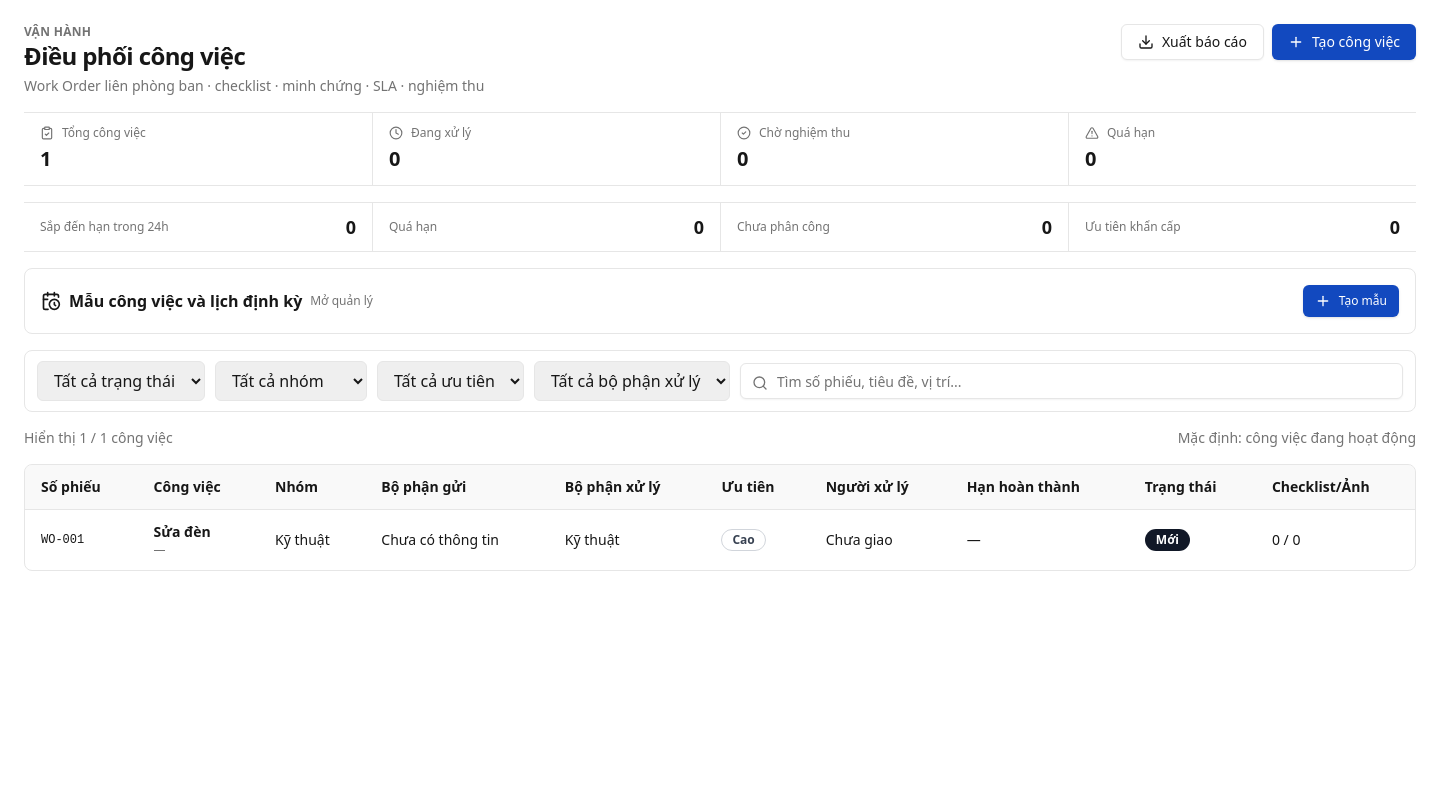
WorkOrdersPage departments and images › narrows the assignee list to the chosen department and clears a stale assignee
The image size is (1440, 810).
Expected: the text "WO-001" is shown, x1=25 y1=510 x2=138 y2=570
Click the button "Tạo công việc" at (1344, 42), box x1=1272 y1=24 x2=1416 y2=60
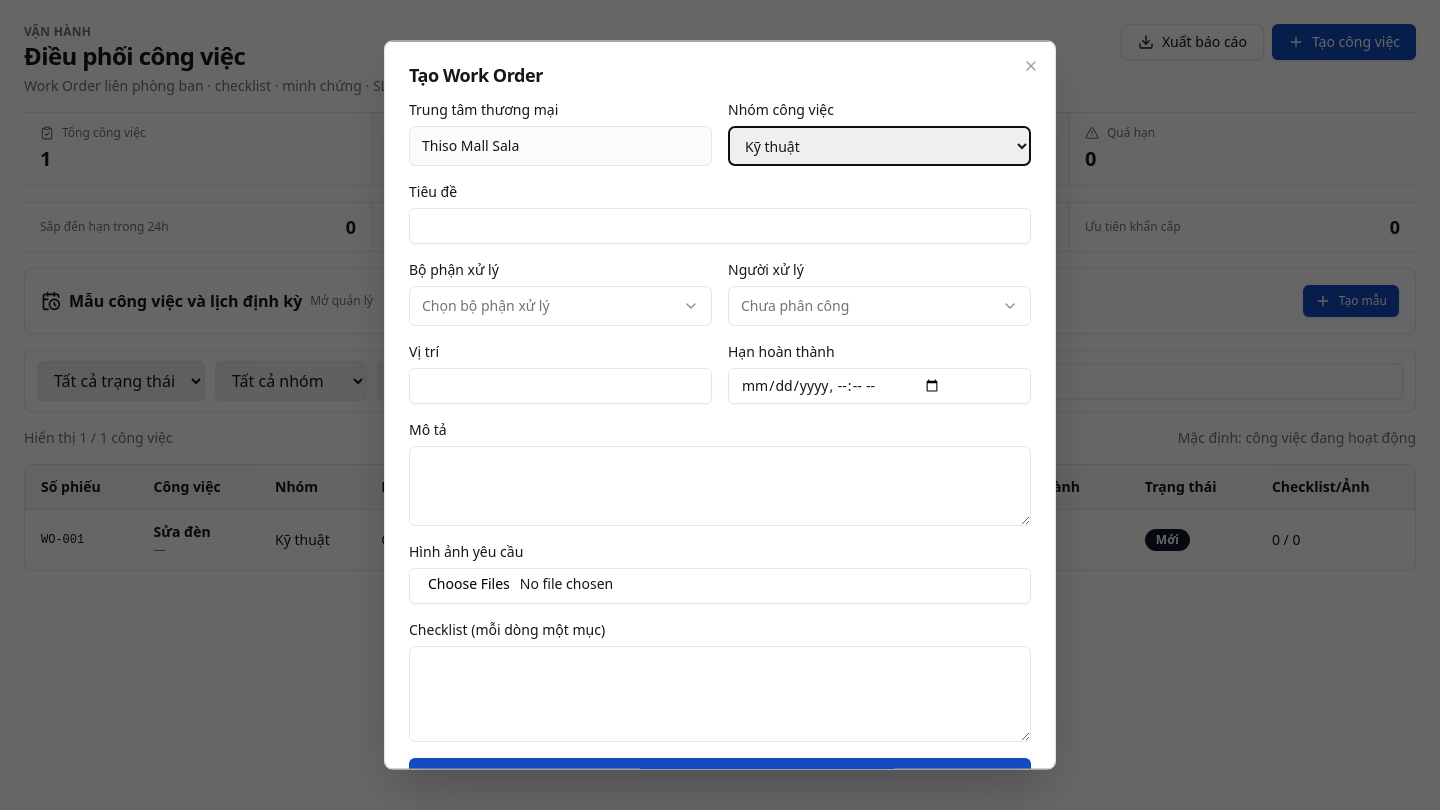
Click the button named "Người xử lý" at (795, 305), box x1=728 y1=286 x2=1031 y2=326
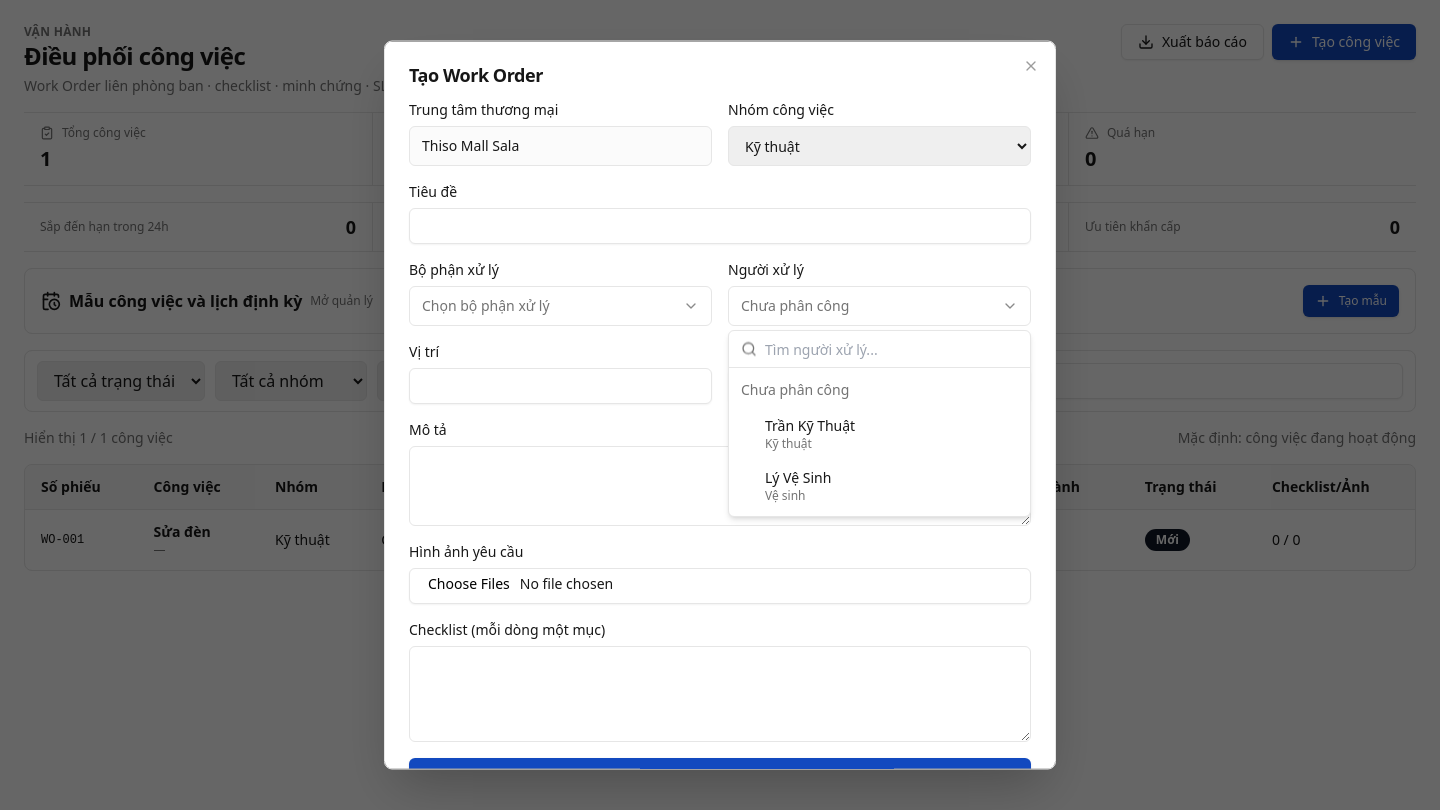
Click the option "Lý Vệ Sinh Vệ sinh" at (798, 477), box x1=729 y1=460 x2=1030 y2=512
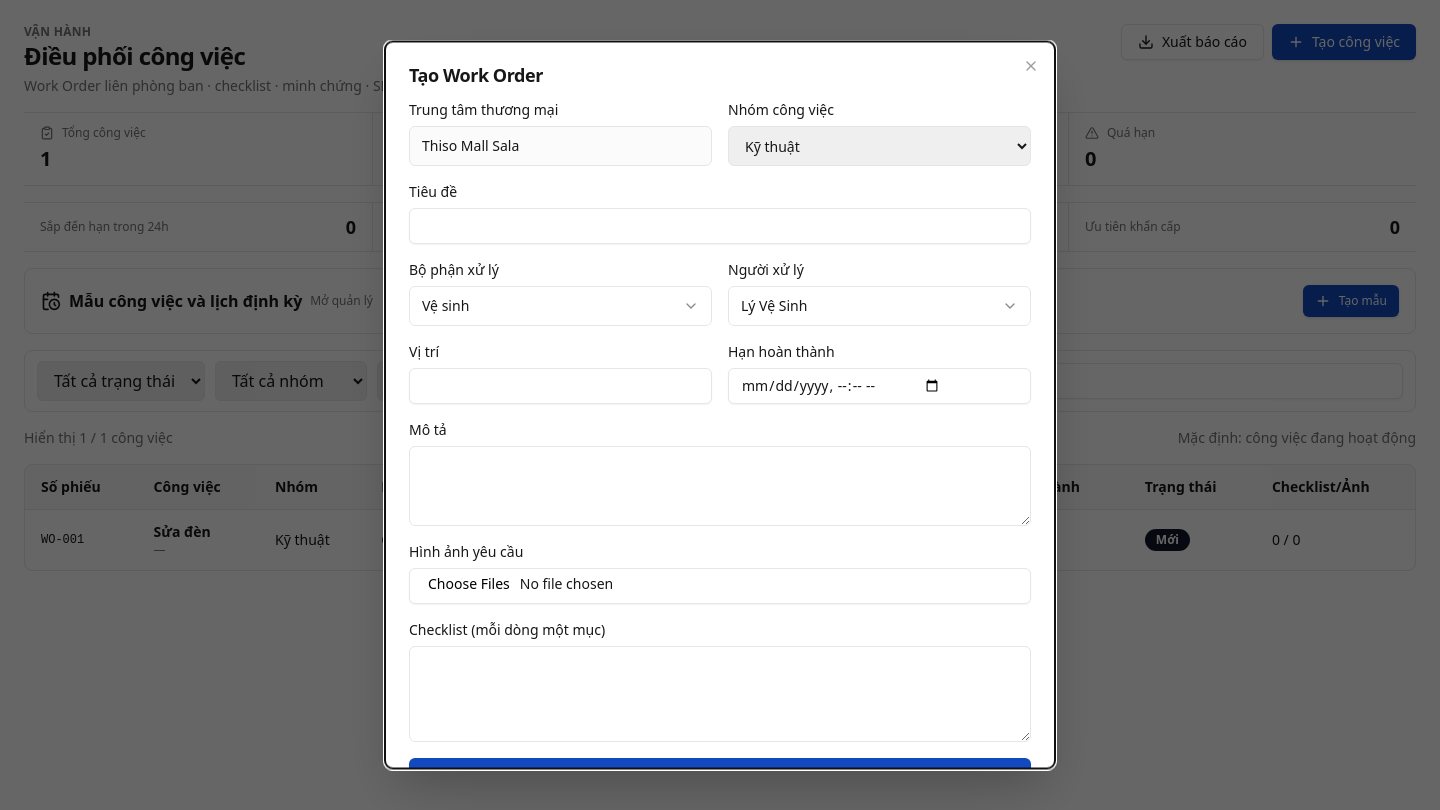
Now the button named "Người xử lý" reads "Lý Vệ Sinh", box x1=728 y1=286 x2=1031 y2=326
Click the button named "Bộ phận xử lý" at (446, 305), box x1=409 y1=286 x2=712 y2=326
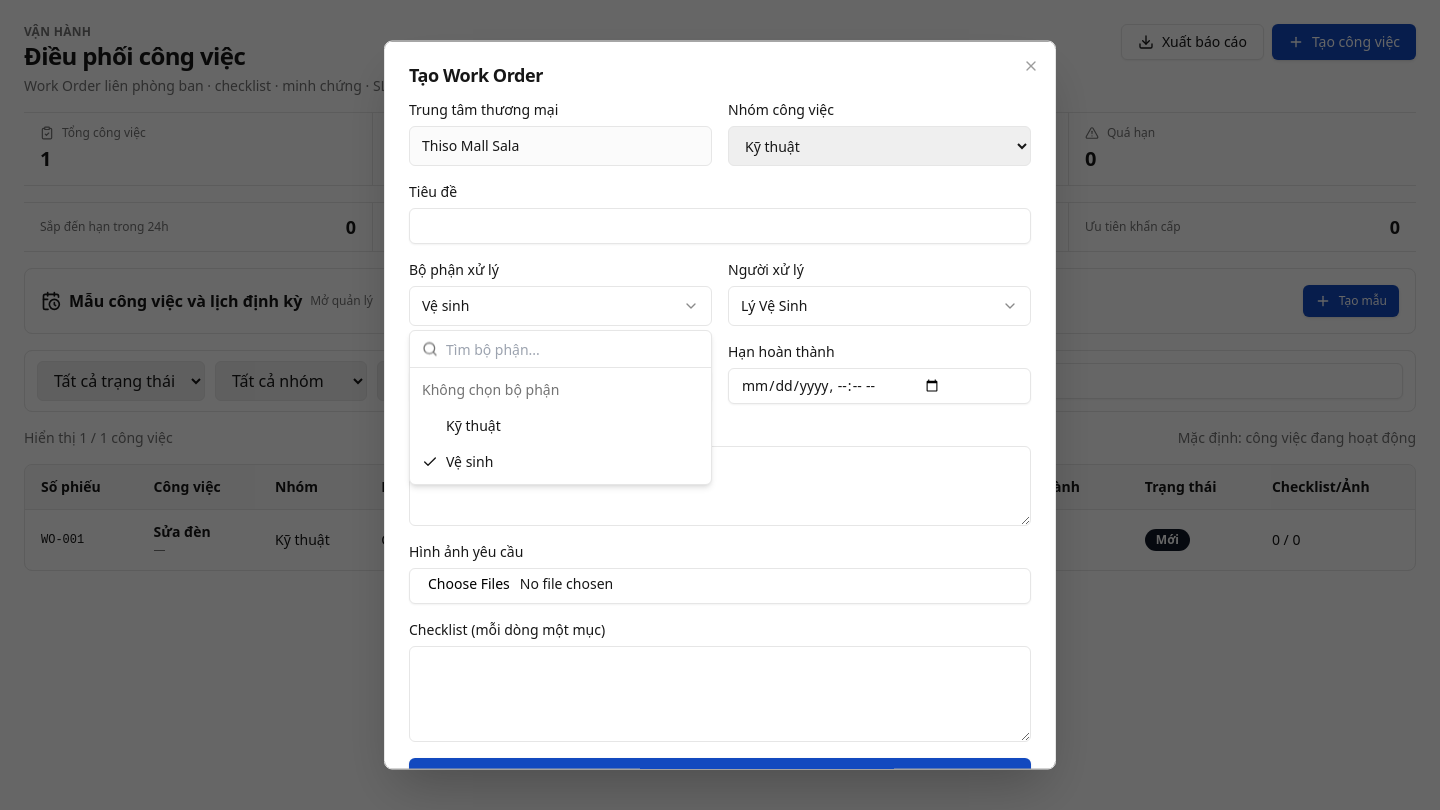
Click the option "Kỹ thuật" at (473, 425), box x1=410 y1=408 x2=711 y2=444
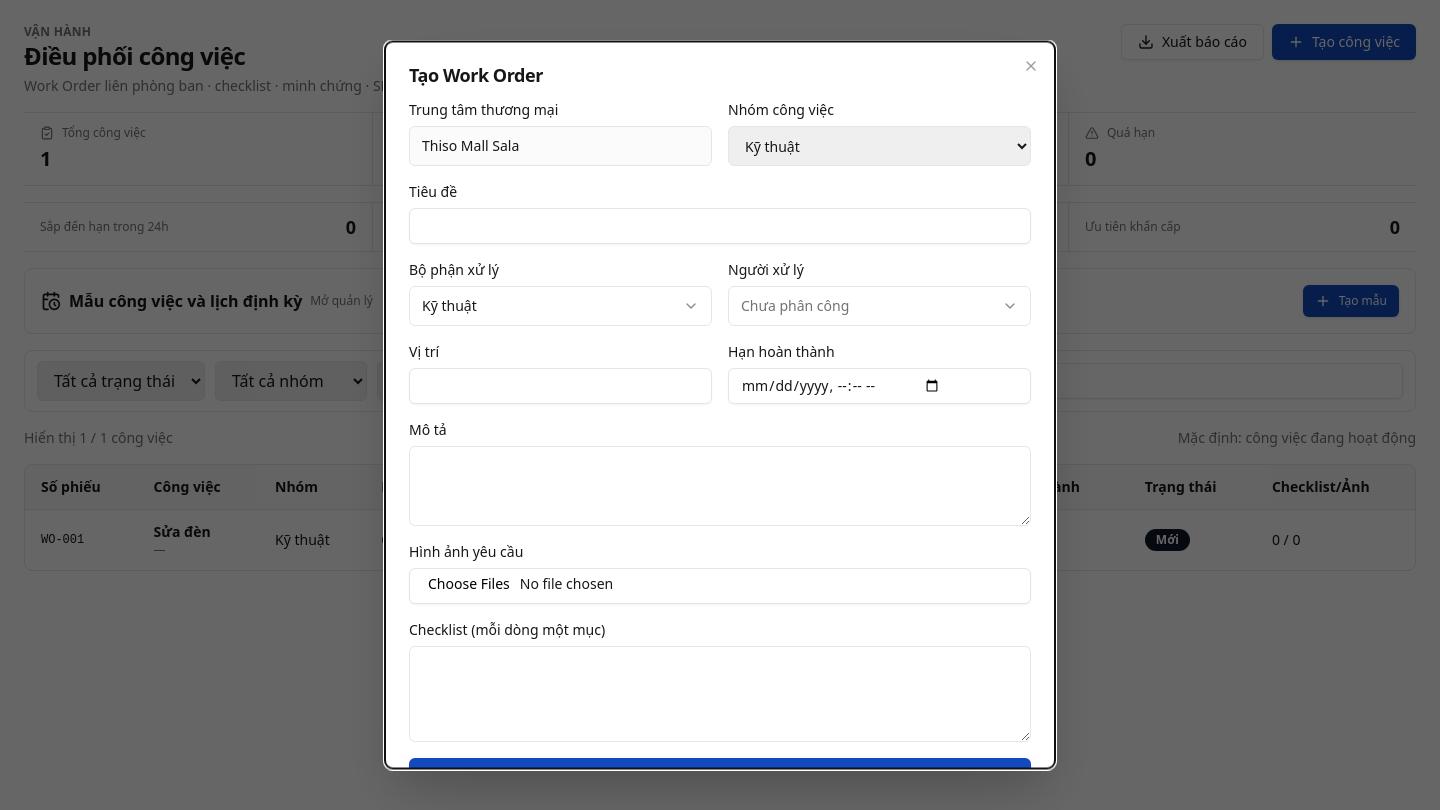
Now the button named "Người xử lý" reads "Chưa phân công", box x1=728 y1=286 x2=1031 y2=326
